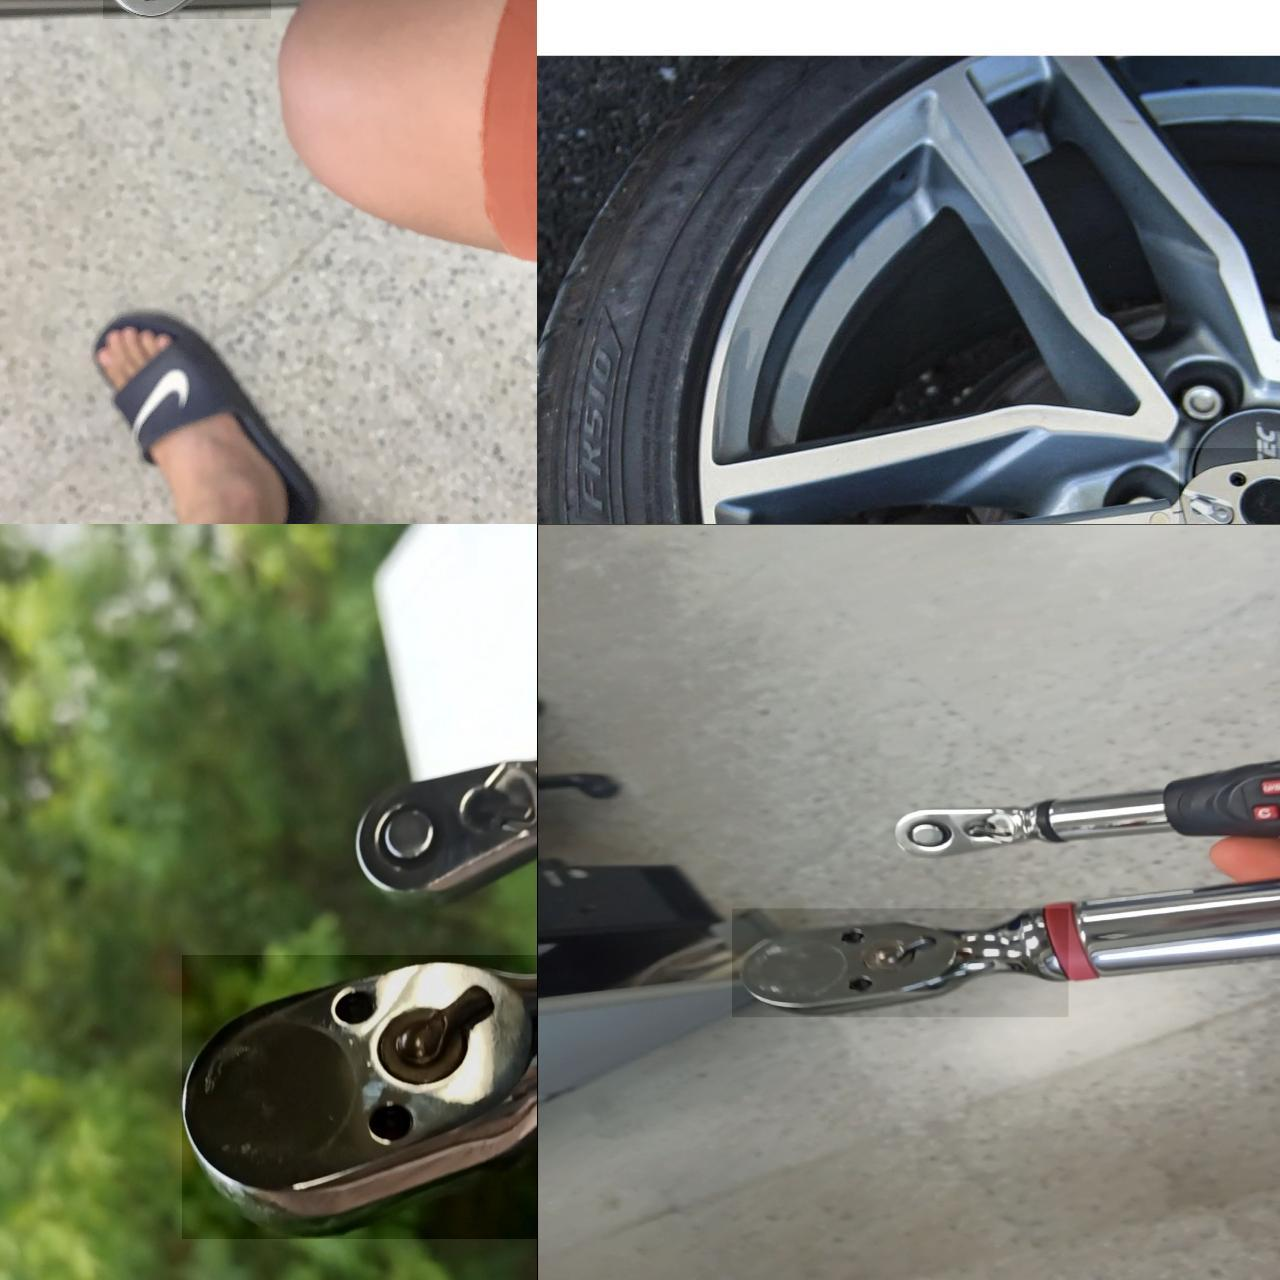Tool: (181, 954, 537, 1238), (730, 907, 1068, 1016), (343, 729, 537, 905), (890, 799, 1048, 862), (1178, 447, 1280, 524)
